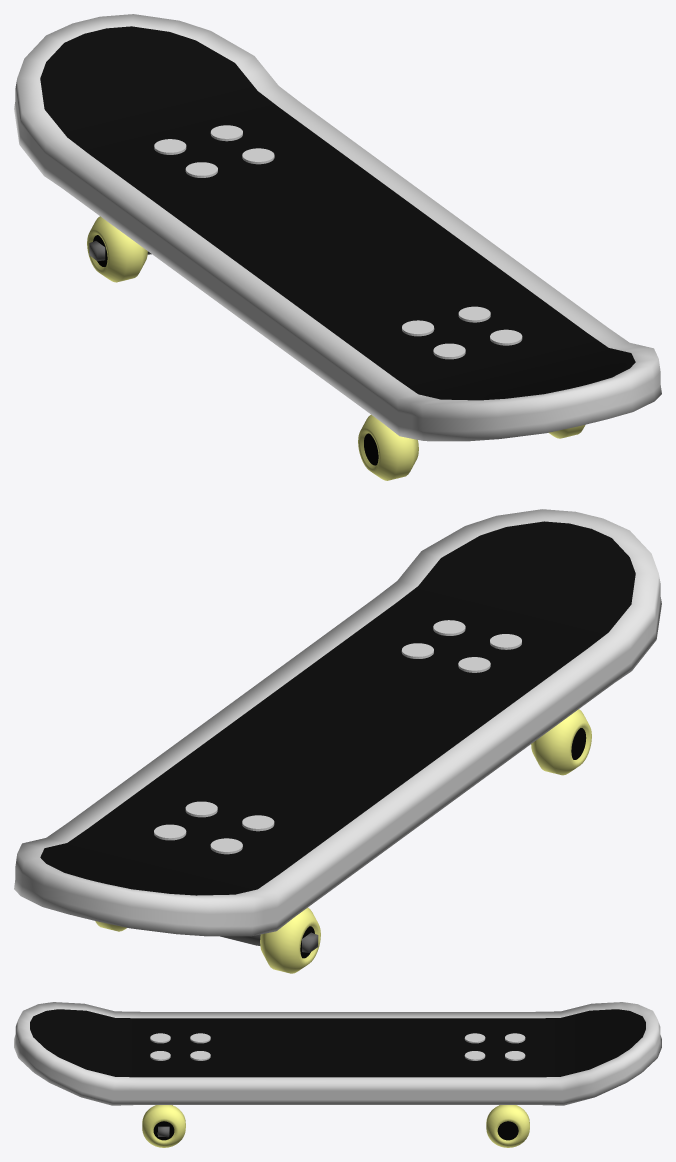
File: skate.glb
3 views of the same model, one above another, from view 1: azimuth 30°, elevation 25°; view 2: azimuth 150°, elevation 25°; view 3: azimuth 270°, elevation 25° (orthographic). The views are drawn at different scales.
Visible parts, largest first — view 1: Plastic White, Cylinder.009, Cylinder.010; view 2: Plastic White, Cylinder.009, Cylinder.010; view 3: Plastic White, Cylinder.011, Cylinder.
Part boxes in pixels (box(x1,y1,x2,y2)): Plastic White: box(14, 14, 661, 441); Cylinder.009: box(358, 415, 418, 480); Cylinder.010: box(87, 216, 147, 282); Plastic White: box(14, 509, 661, 936); Cylinder.009: box(531, 709, 591, 775); Cylinder.010: box(260, 907, 320, 973); Plastic White: box(14, 1002, 661, 1105); Cylinder.011: box(486, 1105, 529, 1147); Cylinder: box(142, 1105, 185, 1147).
Bounding box in the file's own units: 2 × 1.24 × 7.6.
